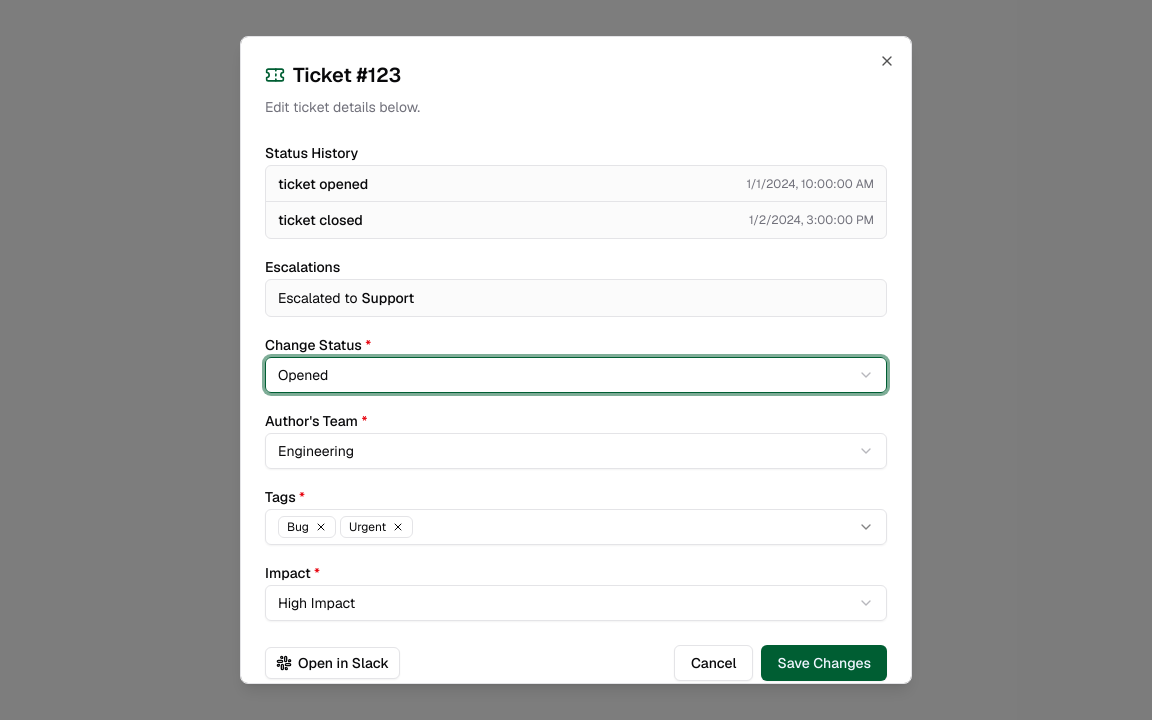
it: EditTicketModal › Save Functionality › displays error message when save fails
The image size is (1152, 720).
Click the button "Save Changes". click: point(824, 663)
box: top-left (761, 645), bottom-right (887, 681)
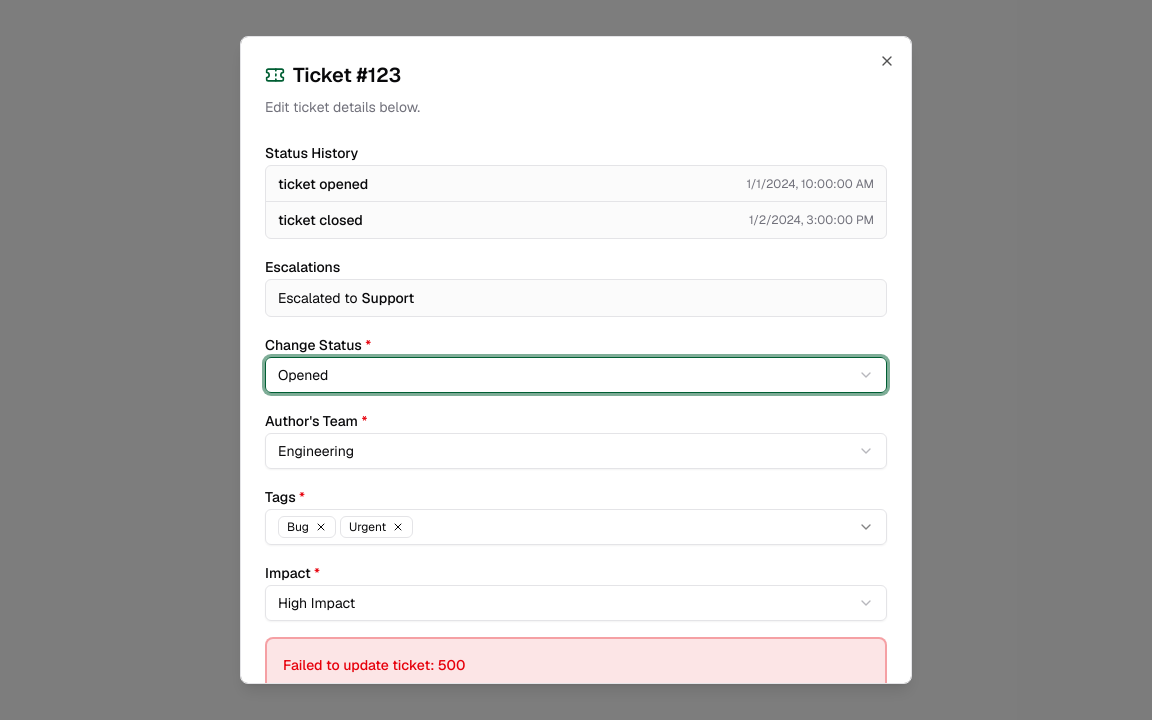
Check: the text "Failed to update ticket: 500" is shown, box top-left (265, 637), bottom-right (887, 684)
